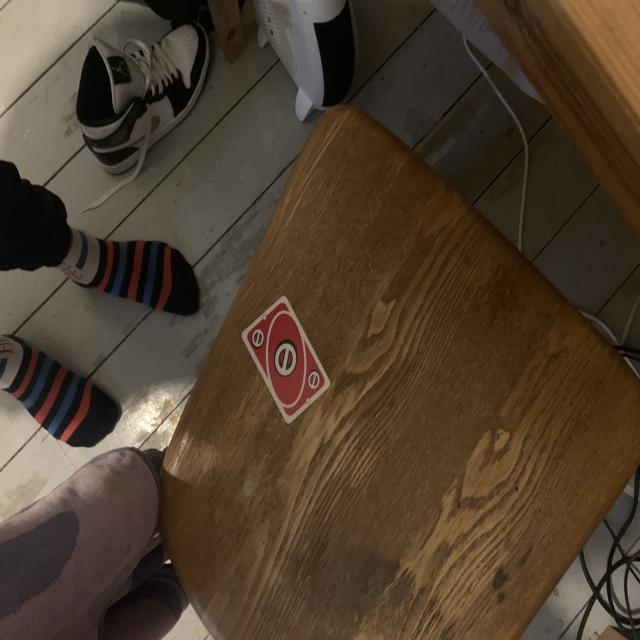lredskip-20: (249, 328, 266, 349)
